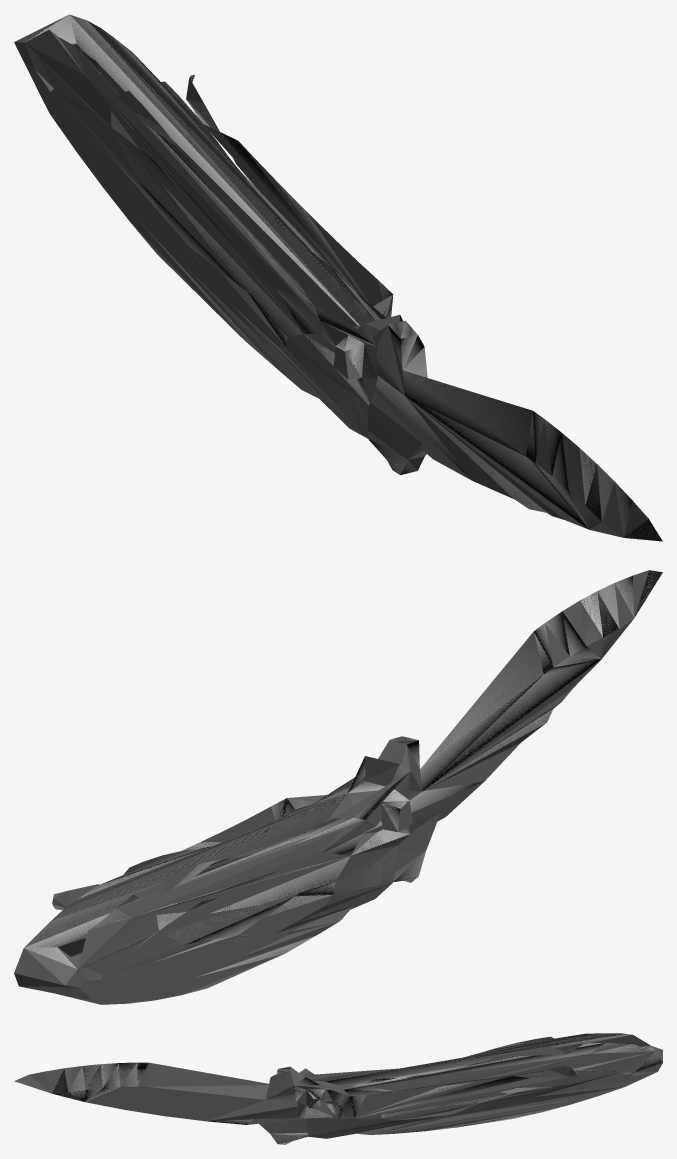
File: model_align.obj
The picture shows the model from 3 angles, top to bottom: view 1: azimuth 30°, elevation 25°; view 2: azimuth 150°, elevation 25°; view 3: azimuth 270°, elevation 25°; orthographic projection. The views are drawn at different scales.
Bounding box in the file's own units: 0.0219 × 0.0407 × 0.2287.
